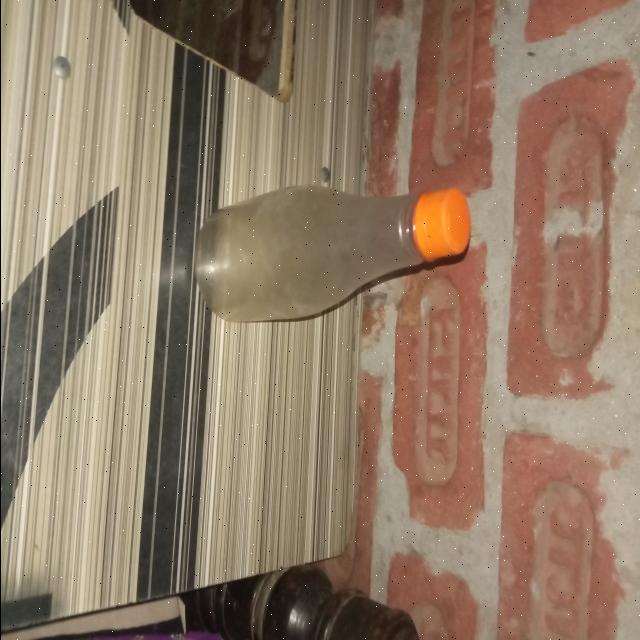plastic: (188, 173, 474, 331)
